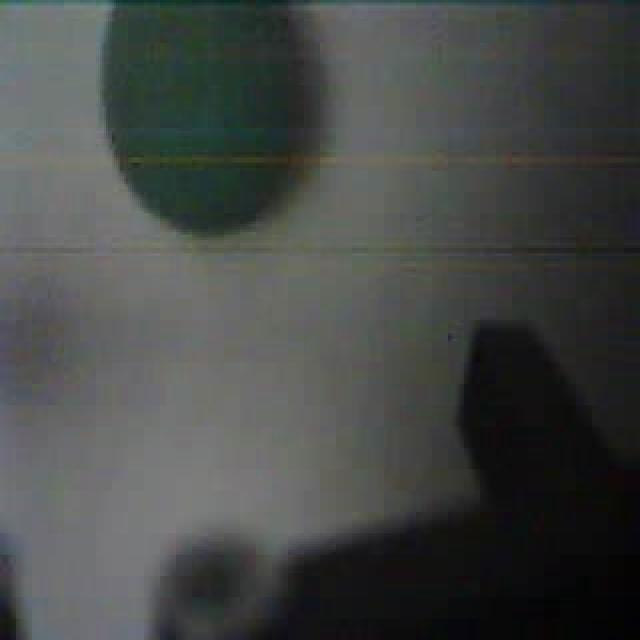green_ball: (96, 0, 316, 240)
